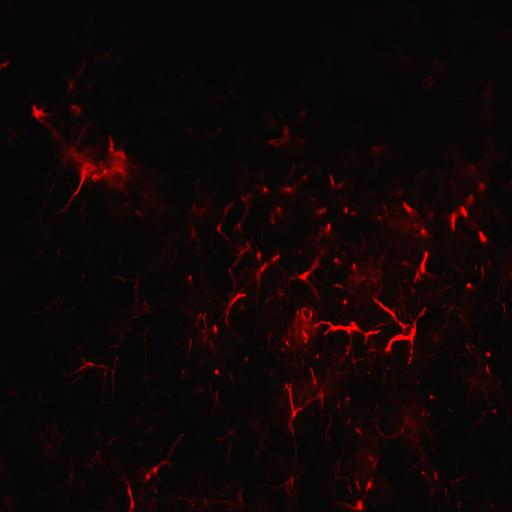microglia: (32, 100, 173, 224), (180, 430, 248, 510), (275, 362, 338, 438), (371, 289, 430, 368), (386, 389, 440, 461), (184, 378, 242, 444), (462, 336, 502, 430), (63, 348, 123, 409), (334, 248, 392, 309), (109, 271, 156, 344), (372, 191, 438, 242), (136, 428, 188, 492), (276, 296, 324, 360), (321, 319, 381, 367), (178, 303, 221, 361), (292, 238, 335, 294), (266, 454, 304, 509), (396, 244, 438, 286), (255, 250, 288, 302), (186, 194, 210, 253), (328, 475, 366, 512), (444, 192, 476, 235), (263, 123, 307, 154), (83, 430, 112, 476), (440, 298, 474, 334), (32, 423, 64, 461), (114, 467, 140, 512), (62, 58, 92, 97), (229, 236, 256, 278), (354, 474, 393, 503), (349, 442, 384, 474), (28, 293, 66, 321), (366, 136, 392, 176), (136, 325, 152, 387), (214, 200, 236, 244), (416, 467, 445, 500), (183, 118, 222, 141), (235, 190, 255, 234), (279, 173, 309, 198), (224, 285, 246, 318), (75, 358, 114, 373), (60, 460, 80, 488), (269, 201, 288, 225), (460, 277, 480, 297), (476, 226, 494, 248), (67, 98, 83, 121), (0, 124, 18, 144), (328, 172, 346, 191), (340, 202, 356, 218), (420, 76, 434, 92), (402, 201, 414, 213), (0, 58, 10, 70)
